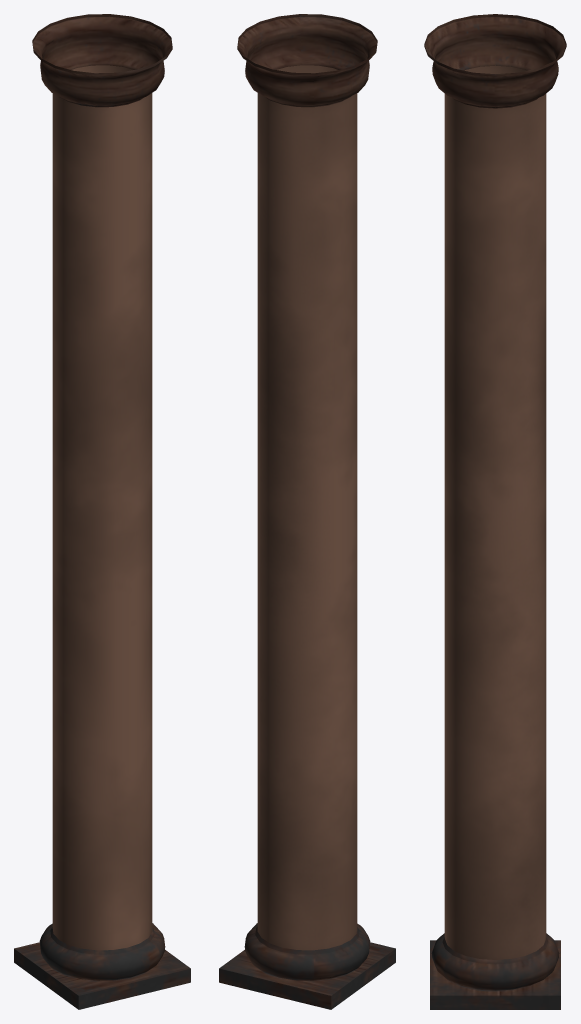
Rendered from Mod_Pillar_B.fbx.
3 views of the same model, side by side, from view 1: azimuth 30°, elevation 25°; view 2: azimuth 150°, elevation 25°; view 3: azimuth 270°, elevation 25° (orthographic).
Parts seen in each view (by area): view 1: Mod_Pillar_B_Low; view 2: Mod_Pillar_B_Low; view 3: Mod_Pillar_B_Low.
Boxes of the visible parts, x1,y1,x2,y2 form: Mod_Pillar_B_Low: [14, 14, 190, 1009]; Mod_Pillar_B_Low: [219, 14, 395, 1009]; Mod_Pillar_B_Low: [424, 14, 566, 1009].
Bounding box in the file's own units: 151 × 1100 × 151.
1 material, 1 textured.
